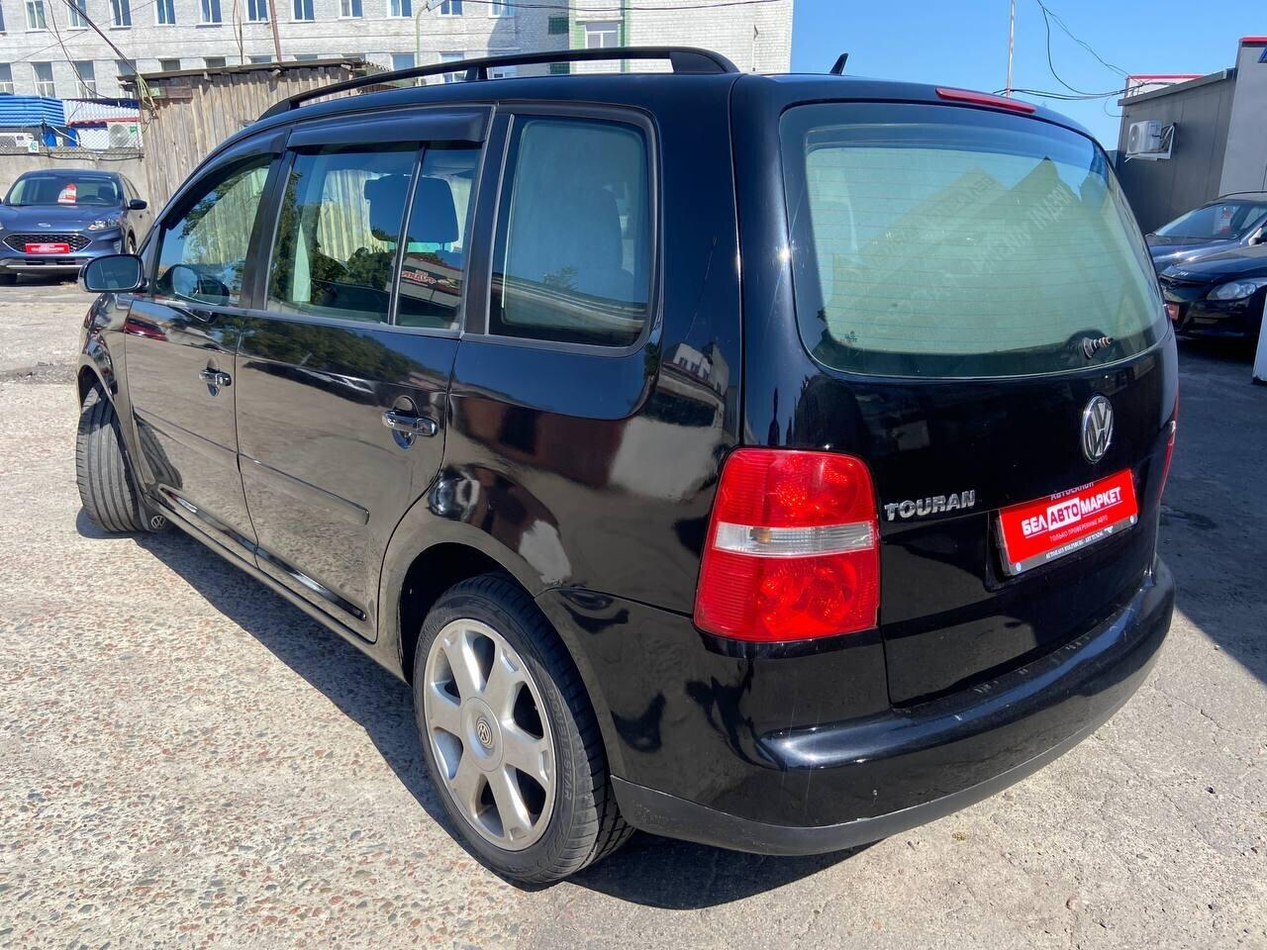Touran_2003-2006: (72, 72, 1184, 887)
